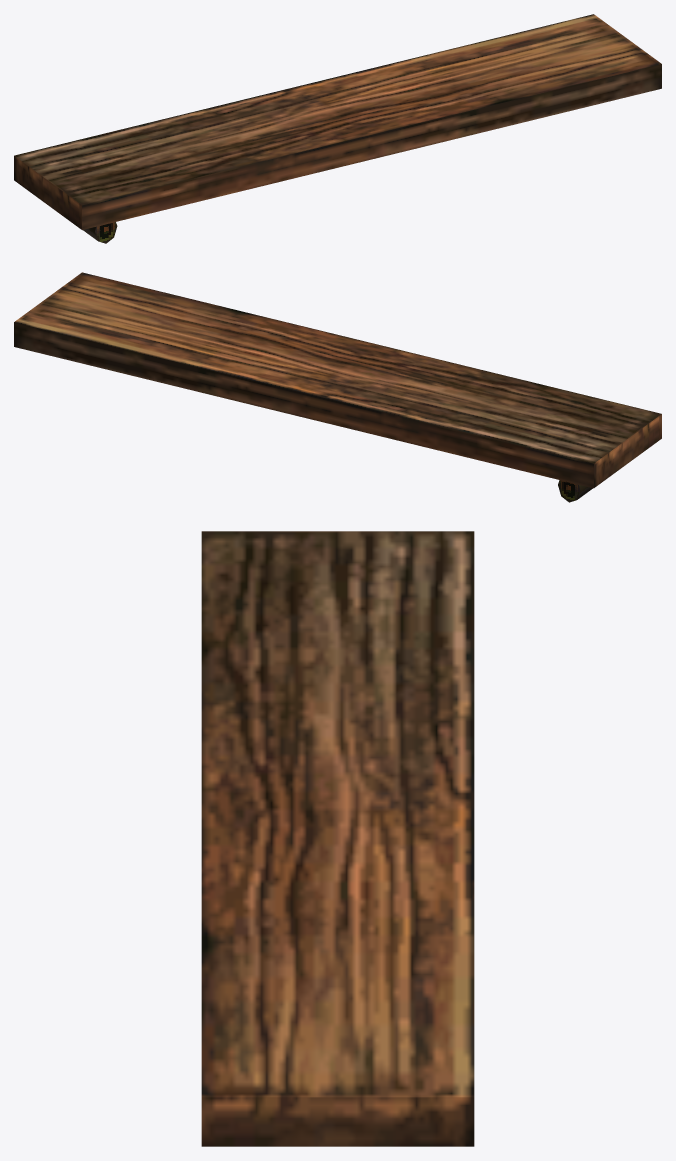
The model's file is INST_WH_PLANKAN_01.fbx.
3 renders of one model, top to bottom at view 1: azimuth 30°, elevation 25°; view 2: azimuth 150°, elevation 25°; view 3: azimuth 270°, elevation 25°, orthographic. The views are drawn at different scales.
Parts seen in each view (by area): view 1: INST_WH_PLANKAN_01; view 2: INST_WH_PLANKAN_01; view 3: INST_WH_PLANKAN_01.
Part boxes in pixels (<box>): INST_WH_PLANKAN_01: <box>14,14,661,243</box>; INST_WH_PLANKAN_01: <box>14,272,661,502</box>; INST_WH_PLANKAN_01: <box>201,531,474,1146</box>.
Size of the model in its own units: 49160 by 4010 by 10000.
Materials: 2 (2 with a texture image).
